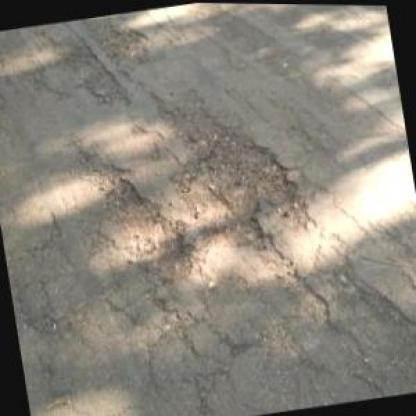pothole: (172, 119, 319, 260), (103, 164, 201, 287), (98, 18, 152, 71)
